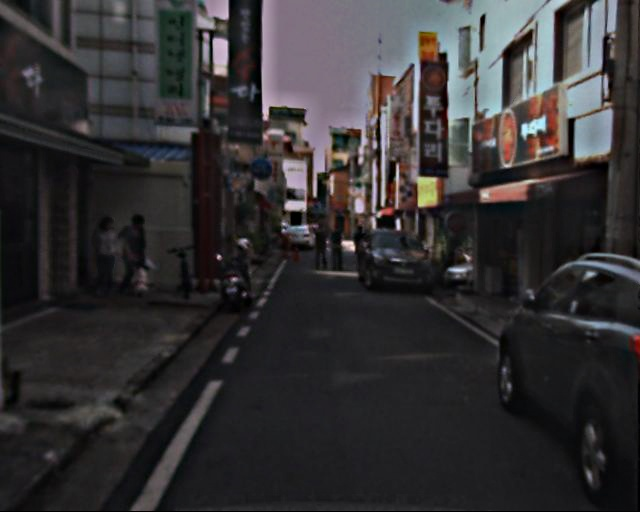person: (120, 211, 160, 295), (92, 215, 133, 295), (328, 225, 347, 272), (352, 224, 371, 270), (311, 227, 329, 272)
